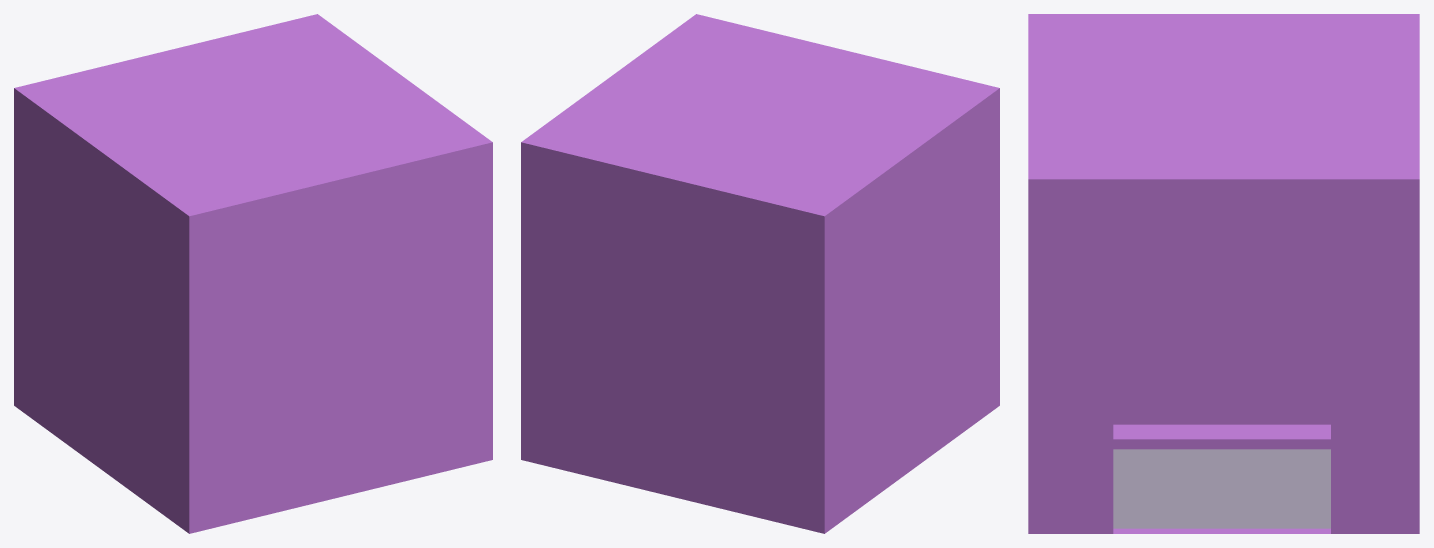
3 renders of one model, left to right at view 1: azimuth 30°, elevation 25°; view 2: azimuth 150°, elevation 25°; view 3: azimuth 270°, elevation 25°, orthographic. The views are drawn at different scales.
Parts seen in each view (by area): view 1: Cube; view 2: Cube; view 3: Cube, Cube.001, Cube.002, Cube.003.
Boxes of the visible parts, <box> form: Cube: <box>14,14,492,533</box>; Cube: <box>521,14,999,533</box>; Cube: <box>1028,14,1419,533</box>; Cube.001: <box>1113,449,1330,528</box>; Cube.002: <box>1113,424,1330,449</box>; Cube.003: <box>1113,528,1330,533</box>.
Size of the model in its own units: 851 by 782 by 782.
